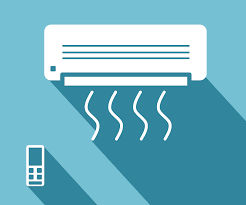ac: (40, 21, 211, 94)
